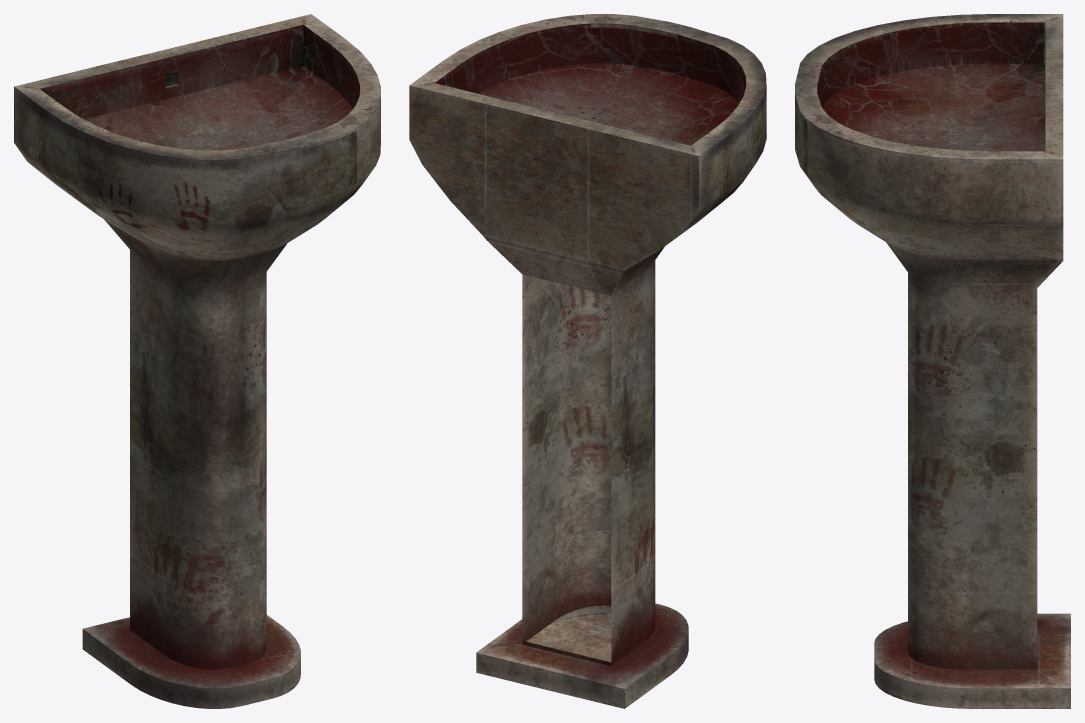
Rendered from wash_basin_haunted.glb.
The picture shows the model from 3 angles, left to right: view 1: azimuth 30°, elevation 25°; view 2: azimuth 150°, elevation 25°; view 3: azimuth 270°, elevation 25°; orthographic projection. The views are drawn at different scales.
Visible parts, largest first — view 1: pCube2; view 2: pCube2; view 3: pCube2.
Boxes of the visible parts, <box> form: pCube2: <box>14,14,380,708</box>; pCube2: <box>409,14,766,708</box>; pCube2: <box>795,14,1070,708</box>.
Bounding box in the file's own units: 0.6367 × 1.2 × 0.5101.
1 material, 1 textured.
